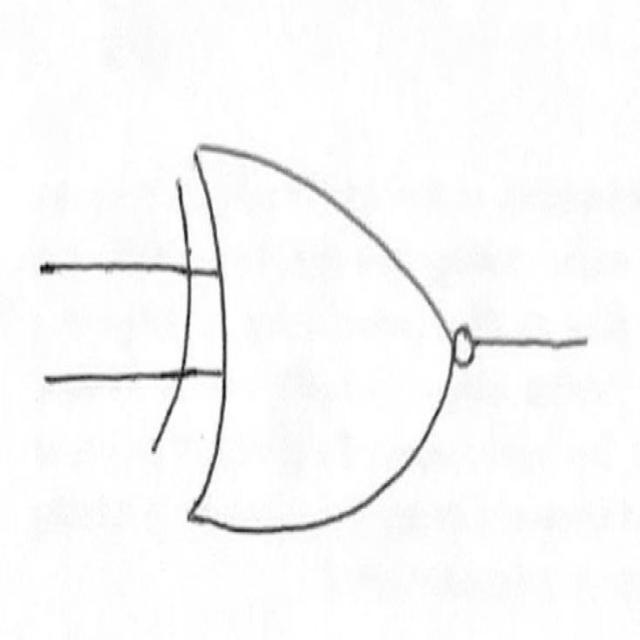XNOR: (147, 114, 503, 559)
